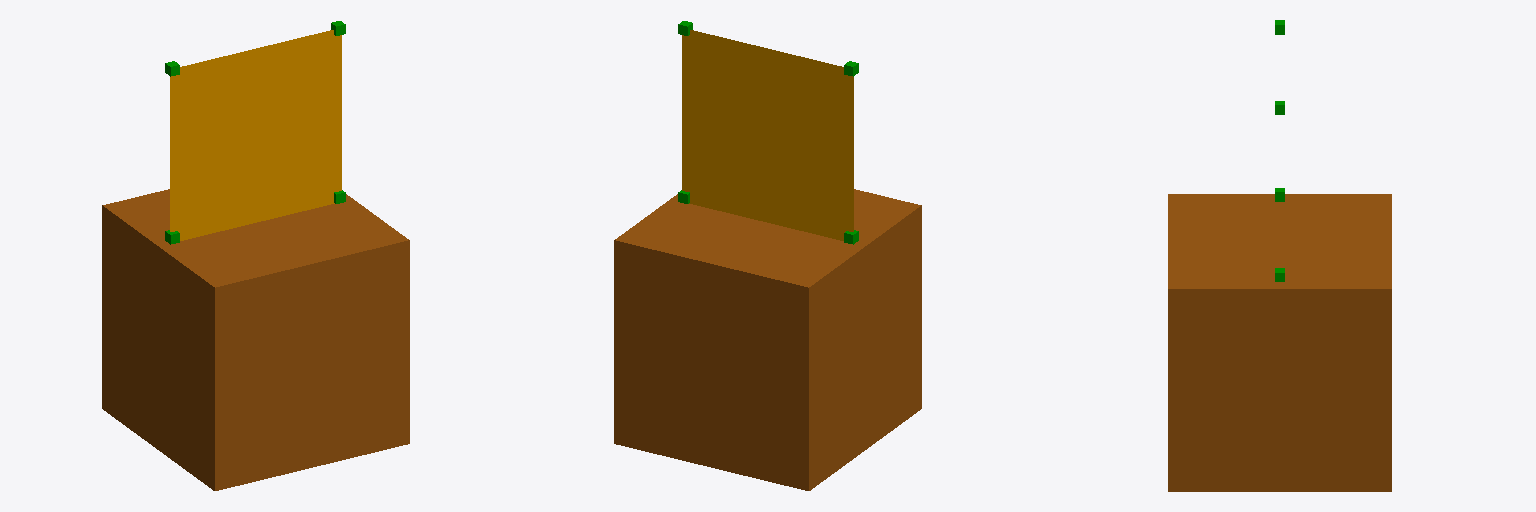
robot.urdf — box_model:
<robot name="box_model">
  <link name="box">
    <inertial>
      <mass value="0.390" />
      <!-- center of mass (com) is defined w.r.t. link local coordinate system -->
      <origin xyz="0 0 0" /> 
      <inertia  ixx="0.0" ixy="0.0"  ixz="0.0"  iyy="0.0"  iyz="0.0"  izz="0.0" />
    </inertial>
      <max_vel>0.1</max_vel>
      <min_depth>0.001</min_depth>
      <mu1>1.0</mu1>
      <mu2>1.0</mu2>
    <visual>
      <!-- visual origin is defined w.r.t. link local coordinate system -->
      <origin xyz="0 0 0" rpy="0 0 0" />
      <geometry>
        <mesh filename="package://pr2_launch/models/mesh/box.dae" scale="1.0 1.0 1.0" />
      </geometry>
    </visual>
    <collision>
      <!-- collision origin is defined w.r.t. link local coordinate system -->
      <origin xyz="0 0 0" rpy="0 0 0" />
      <geometry>
        <mesh filename="package://pr2_launch/models/mesh/box.dae" scale="1.0 1.0 1.0" />
      </geometry>
    </collision>
  </link>
  <gazebo reference="box_model">
    <material>Gazebo/Red</material>
    <turnGravityOff>false</turnGravityOff>
    <kp>100000000.0</kp>
    <kd>1.0</kd>
  </gazebo>
</robot>

--- Facts derived from the render (not from the file) ---
The picture shows the robot from 3 angles, left to right: view 1: azimuth 30°, elevation 25°; view 2: azimuth 150°, elevation 25°; view 3: azimuth 270°, elevation 25°; orthographic projection.
Robot: box_model — 1 links, 0 joints (none); root link box; default pose: every joint at zero.
Visible links, largest first — view 1: box; view 2: box; view 3: box.
Boxes of the visible links, x1,y1,x2,y2 form: box: (102,21,409,490); box: (614,21,921,490); box: (1168,20,1391,491).
Bounding box of the posed robot: 0.5 × 0.5 × 0.9396 m (x, y, z).
1 mesh visuals loaded from 1 distinct referenced files (1 Collada DAE).